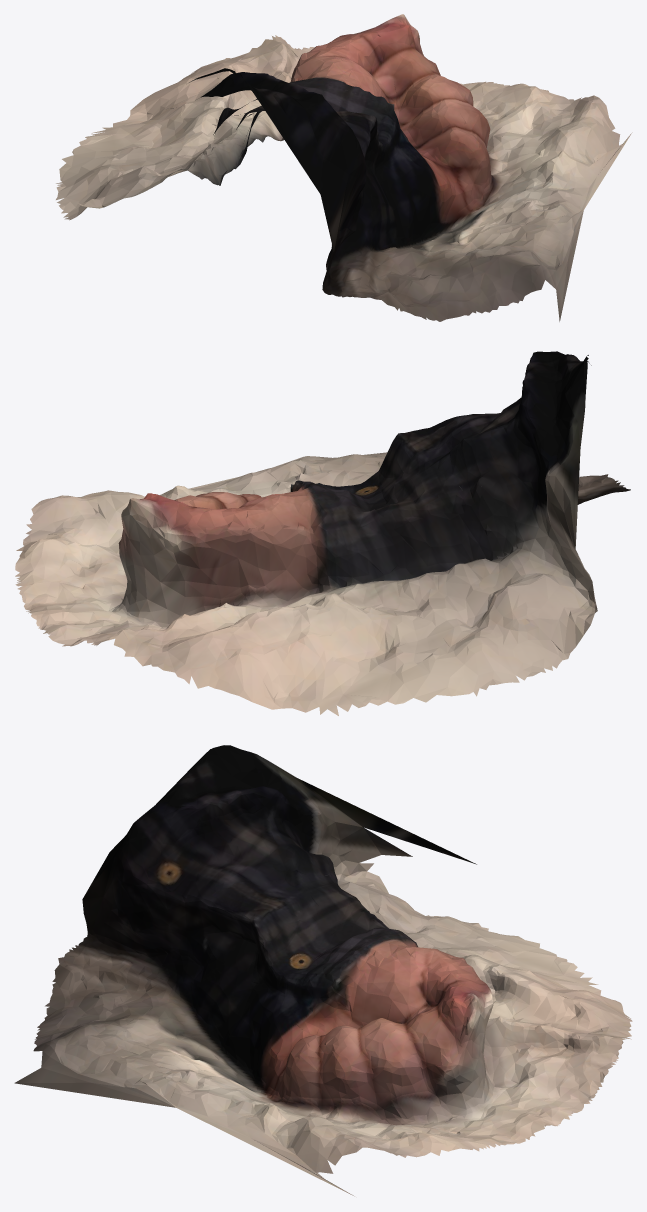
The model's file is puno.glb.
The picture shows the model from 3 angles, top to bottom: view 1: azimuth 30°, elevation 25°; view 2: azimuth 150°, elevation 25°; view 3: azimuth 270°, elevation 25°; orthographic projection. The views are drawn at different scales.
Visible parts, largest first — view 1: puno; view 2: puno; view 3: puno.
Part boxes in pixels (x1,y1,x2,y2): puno: [56, 14, 632, 321]; puno: [15, 351, 630, 715]; puno: [14, 745, 632, 1196].
Size of the model in its own units: 0.3176 by 0.124 by 0.3033.
1 material, 1 textured.
